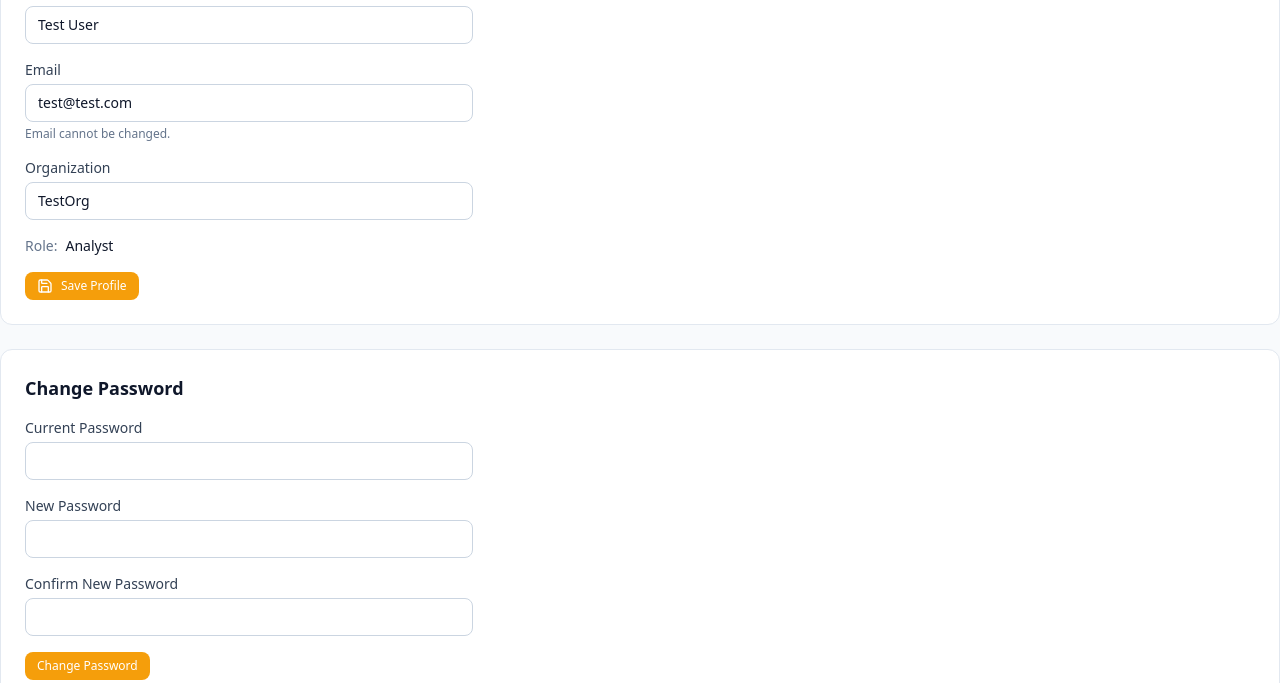
Test case: Password change requires current password › shows password strength indicator
This screenshot has width=1280, height=683.
(page scrolled)
Type "MyStr0ng!Pass" into the password field labelled "New Password" at {"x": 249, "y": 539}, box [25, 520, 473, 558]
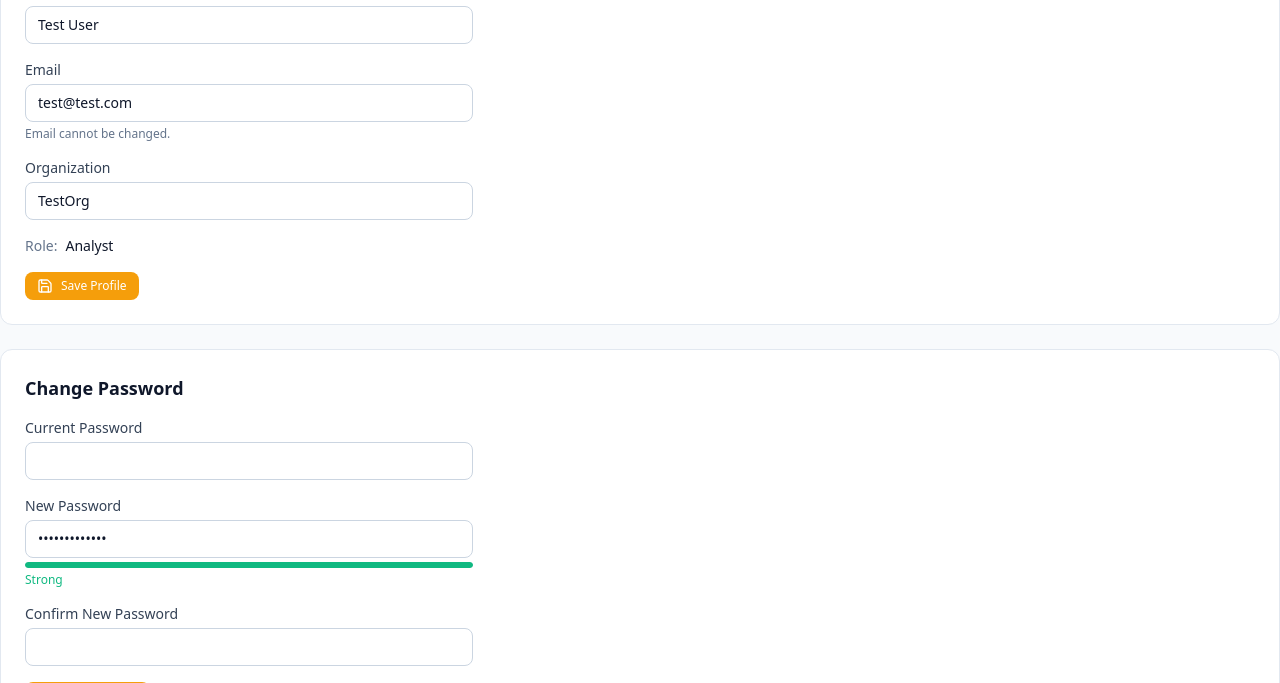
expect the text "Strong" is shown: met, box [25, 571, 63, 588]
